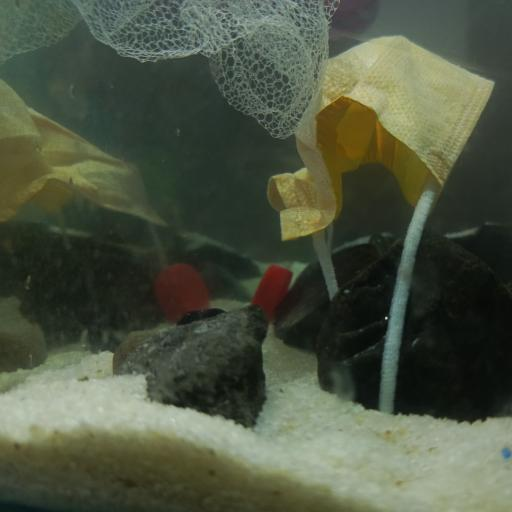bottle_cap: (254, 263, 292, 310)
mask: (272, 31, 497, 317)
net: (0, 0, 342, 138)
